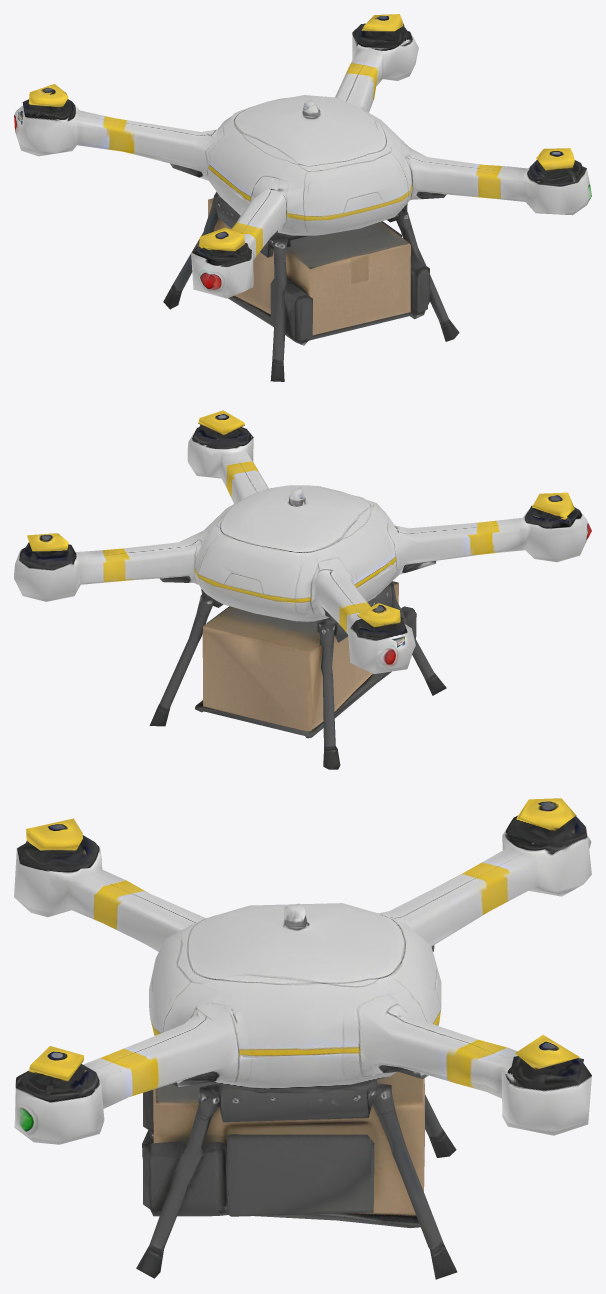
The model's file is traffic-delivery.glb.
3 renders of one model, top to bottom at view 1: azimuth 30°, elevation 25°; view 2: azimuth 150°, elevation 25°; view 3: azimuth 270°, elevation 25°, orthographic. The views are drawn at different scales.
Parts seen in each view (by area): view 1: traffic-delivery; view 2: traffic-delivery; view 3: traffic-delivery.
Part boxes in pixels (box(x1,y1,x2,y2)): traffic-delivery: box(14, 14, 591, 381); traffic-delivery: box(14, 410, 591, 769); traffic-delivery: box(14, 798, 591, 1279).
Bounding box in the file's own units: 0.9 × 0.4864 × 0.8196.
Materials: 1 (1 with a texture image).
